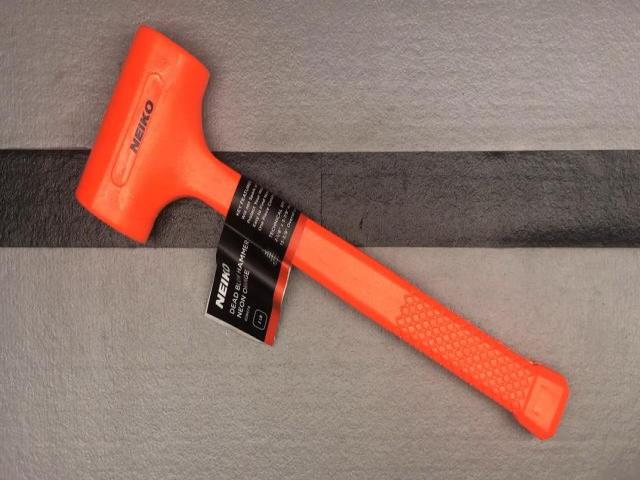hammer: (73, 26, 572, 440)
